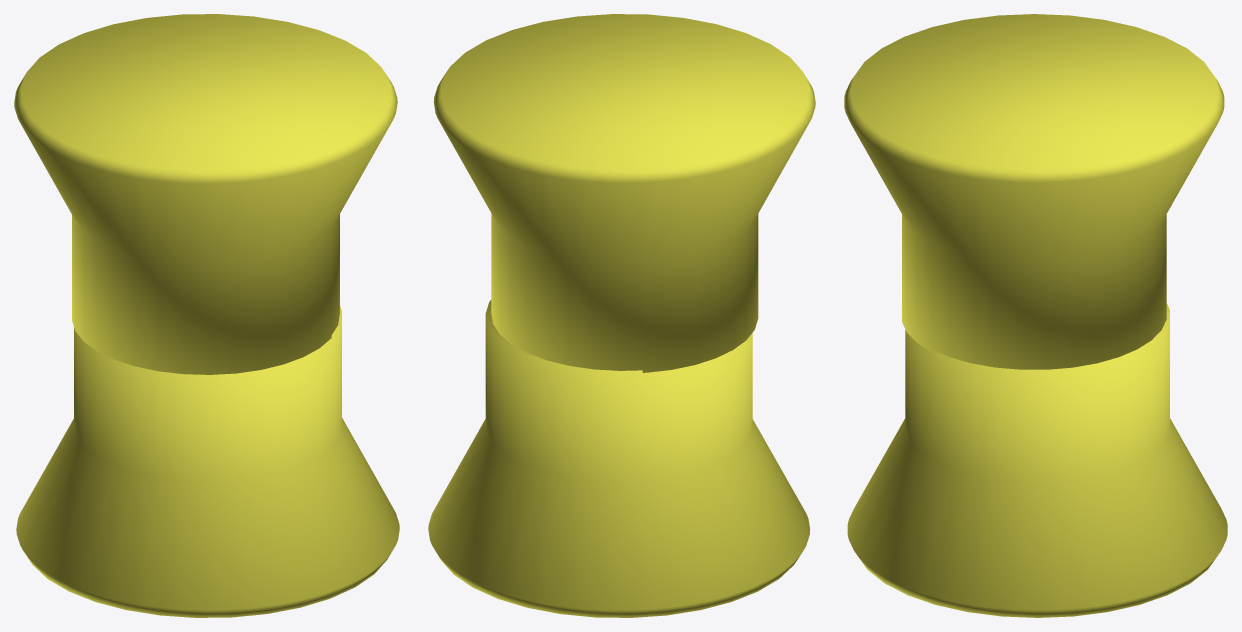
File: obsttask203.fbx
The picture shows the model from 3 angles, left to right: view 1: azimuth 30°, elevation 25°; view 2: azimuth 150°, elevation 25°; view 3: azimuth 270°, elevation 25°; orthographic projection.
Visible parts, largest first — view 1: Cone.001; view 2: Cone.001; view 3: Cone.001.
Part boxes in pixels (<box>): Cone.001: <box>14,14,399,617</box>; Cone.001: <box>428,14,815,617</box>; Cone.001: <box>844,14,1227,617</box>.
Bounding box in the file's own units: 195 × 250 × 194.
